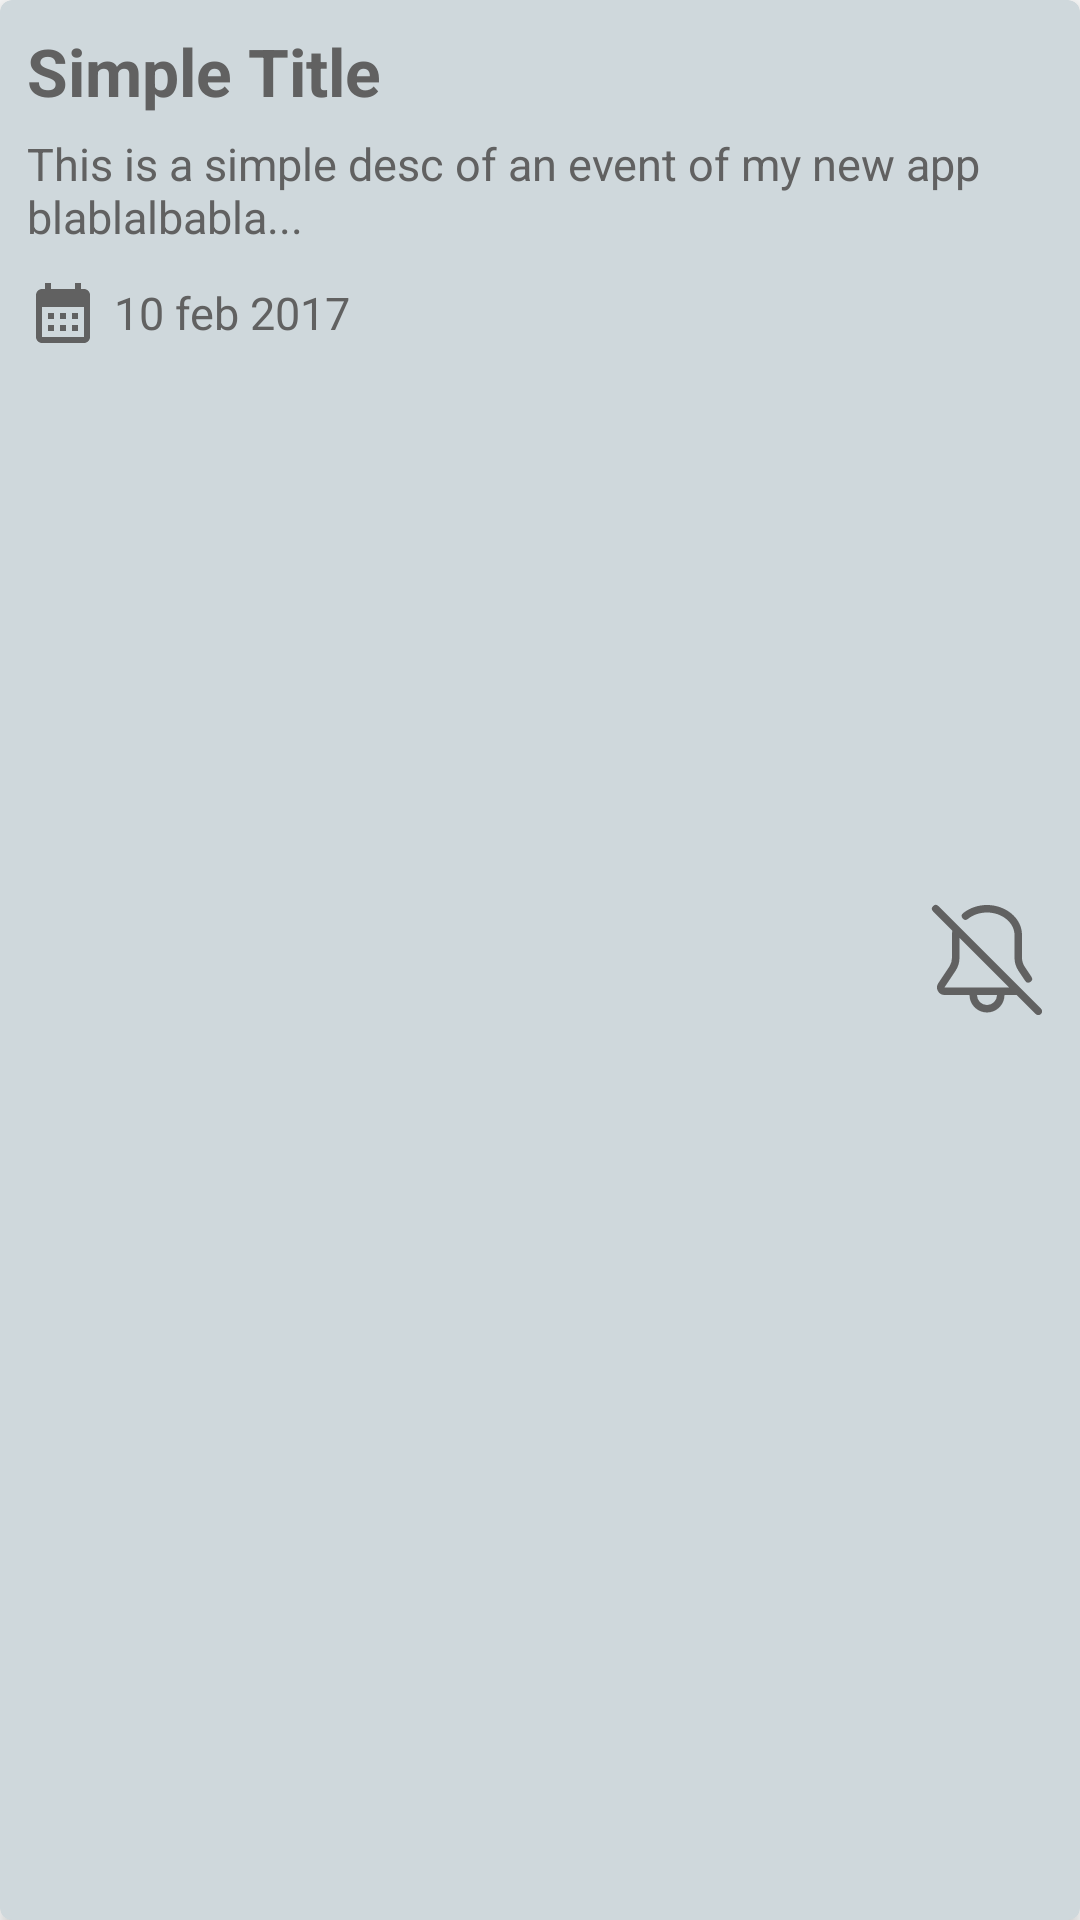

Icon bounding boxes for this 1080px×1920px phone screenshot, format (x1, y1, x2, y2):
no ring: (932, 905, 1042, 1015)
